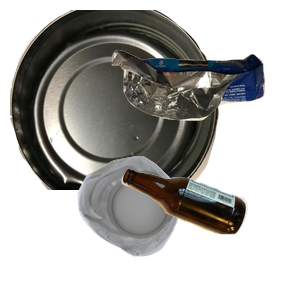glass: (119, 166, 300, 300)
metal: (10, 10, 221, 190)
plastic: (75, 154, 248, 300)
trash: (109, 47, 300, 160)
